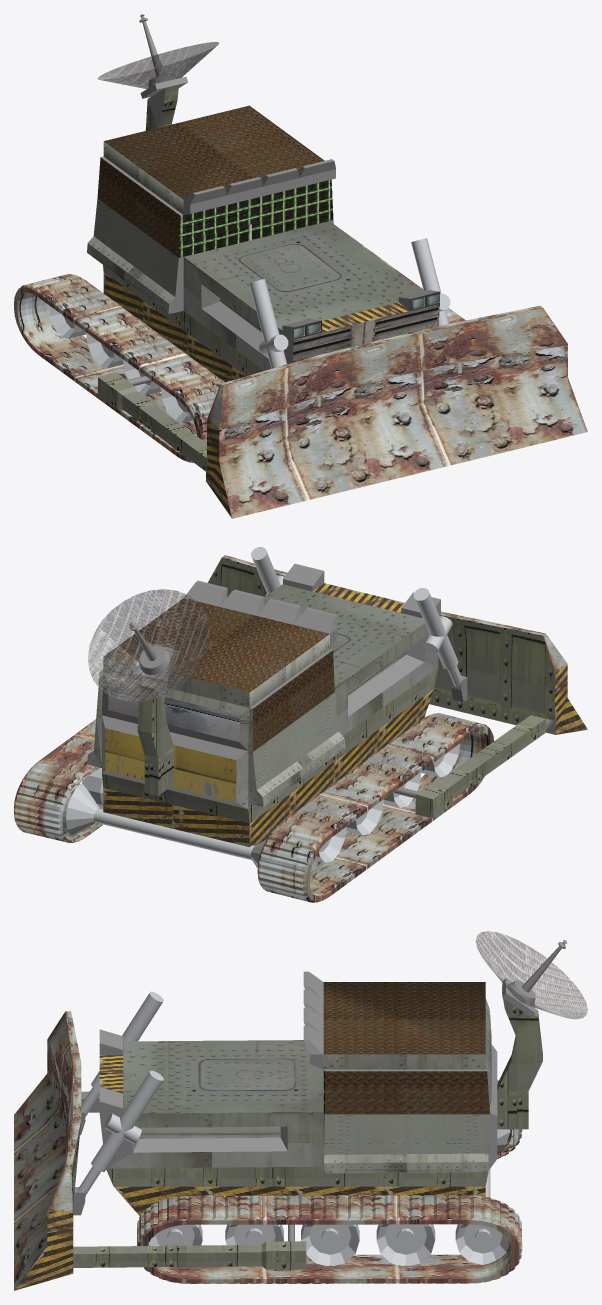
Rendered from bulldozer.FBX.
3 views of the same model, one above another, from view 1: azimuth 30°, elevation 25°; view 2: azimuth 150°, elevation 25°; view 3: azimuth 270°, elevation 25° (orthographic).
Visible parts, largest first — view 1: Box01; view 2: Box01; view 3: Box01.
Part boxes in pixels (box(x1,y1,x2,y2)): Box01: box(14, 14, 587, 518); Box01: box(14, 547, 587, 902); Box01: box(14, 931, 587, 1290).
Size of the model in its own units: 70.22 by 51.27 by 96.8.
